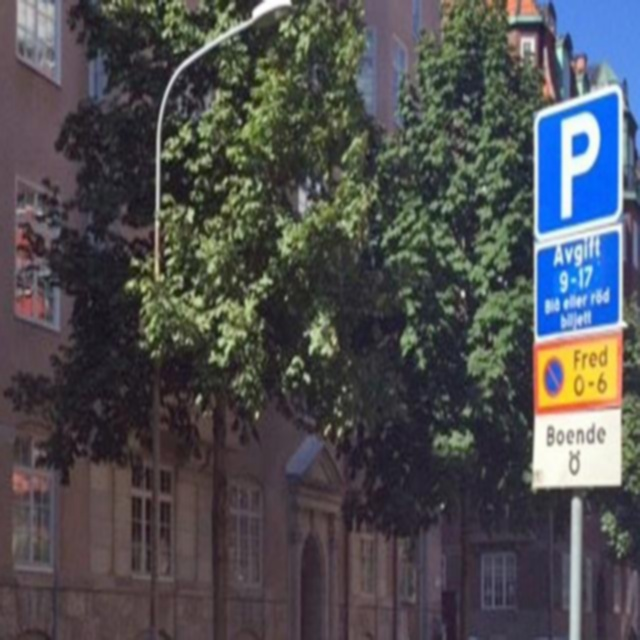P-skylt: (530, 105, 626, 227)
